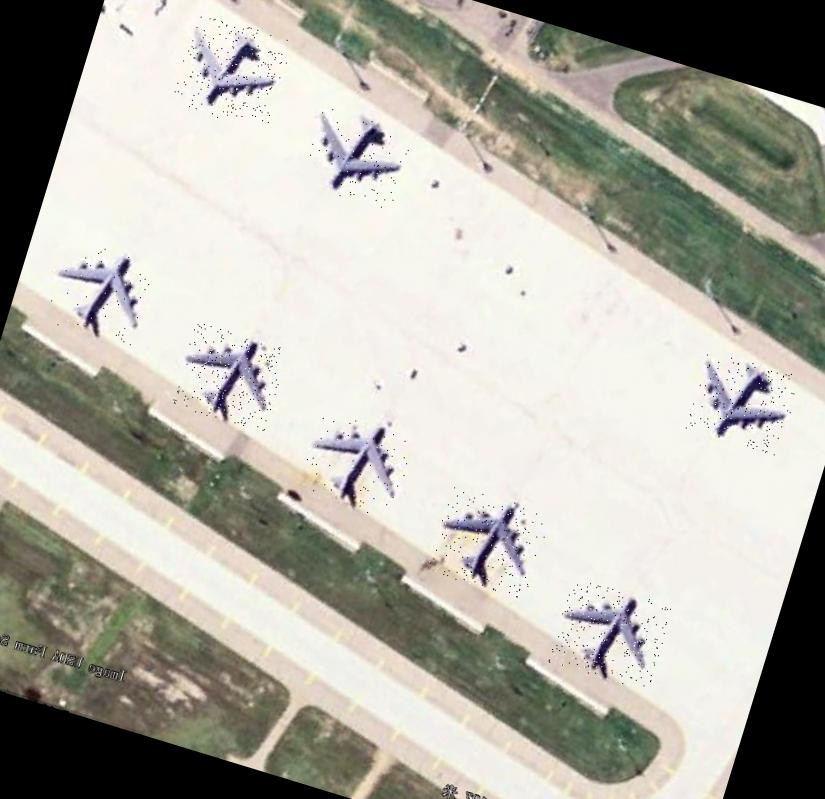A8: (169, 11, 293, 132), (546, 576, 673, 692), (426, 484, 551, 600), (296, 408, 416, 520), (170, 321, 288, 433), (682, 348, 800, 457), (298, 102, 414, 211), (43, 238, 156, 348)
